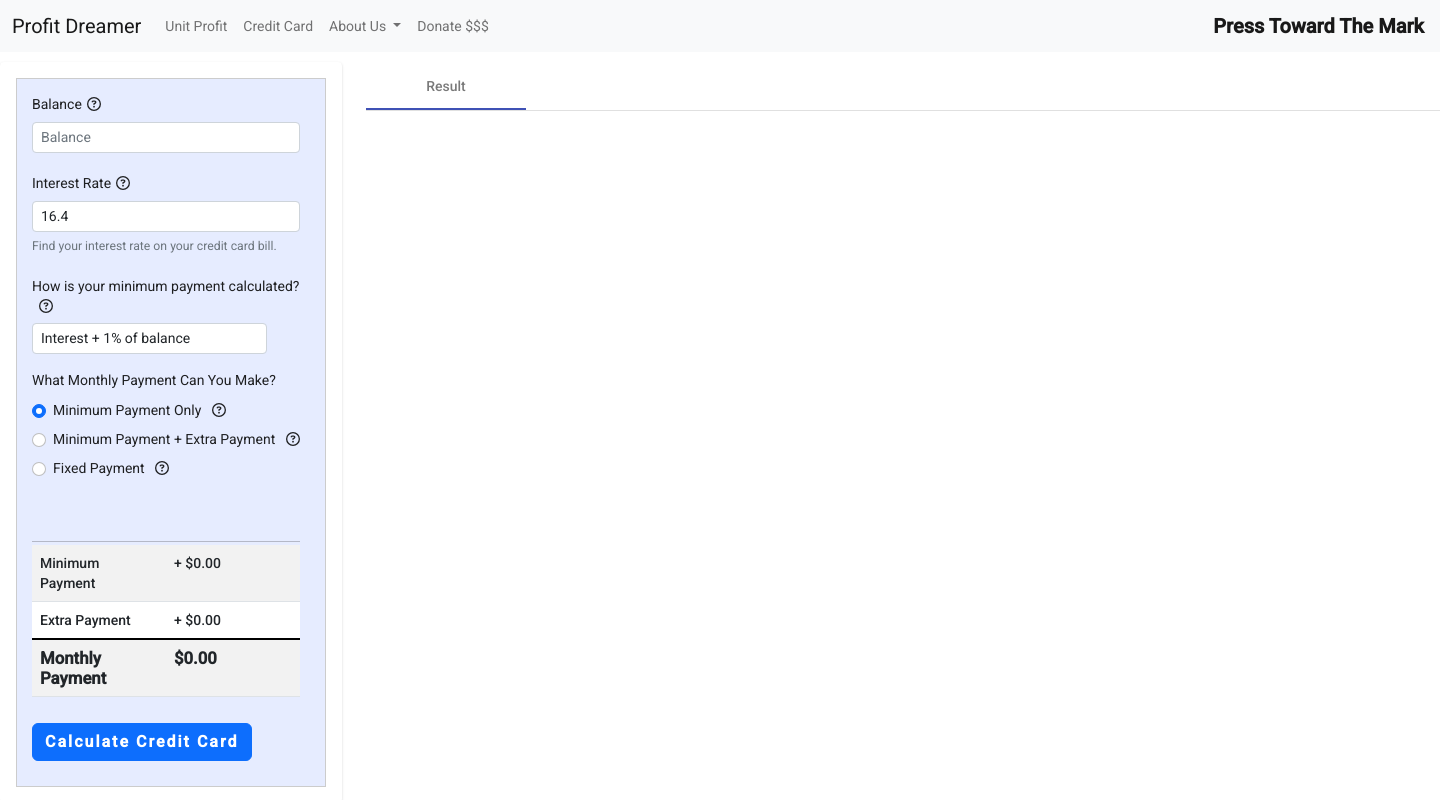
Test: credit-card-fixed-payment-validation.cy.ts › 10,000 15% payment fixed › focus on fixed payment and blur off › required error message should be visibile and shown
The width and height of the screenshot is (1440, 800).
Type "10000" into the field with id "balance" at point(166, 138), box [32,122,300,153]
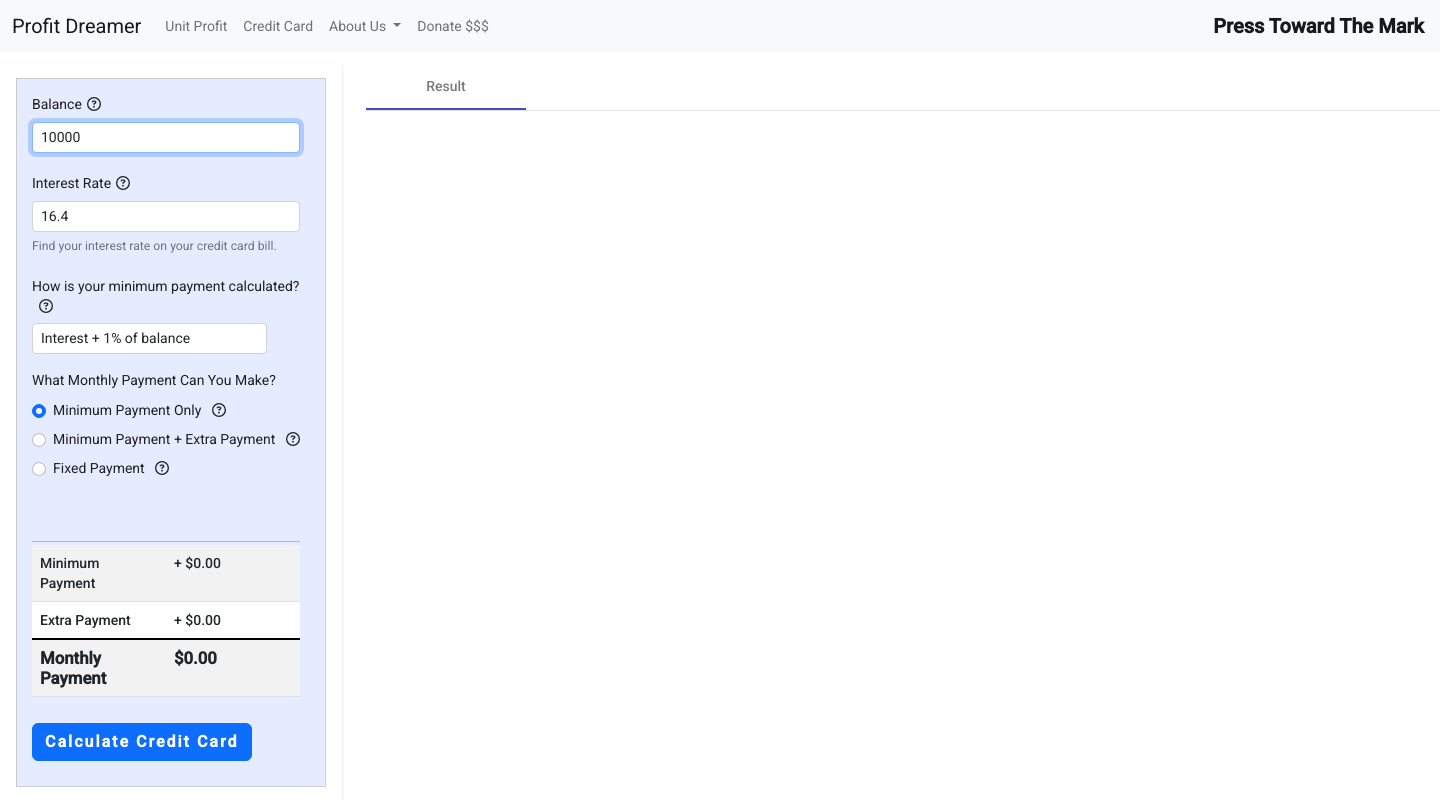
Replace the text in the field with id "interestRate" with "15" at point(166, 217), box [32,201,300,232]
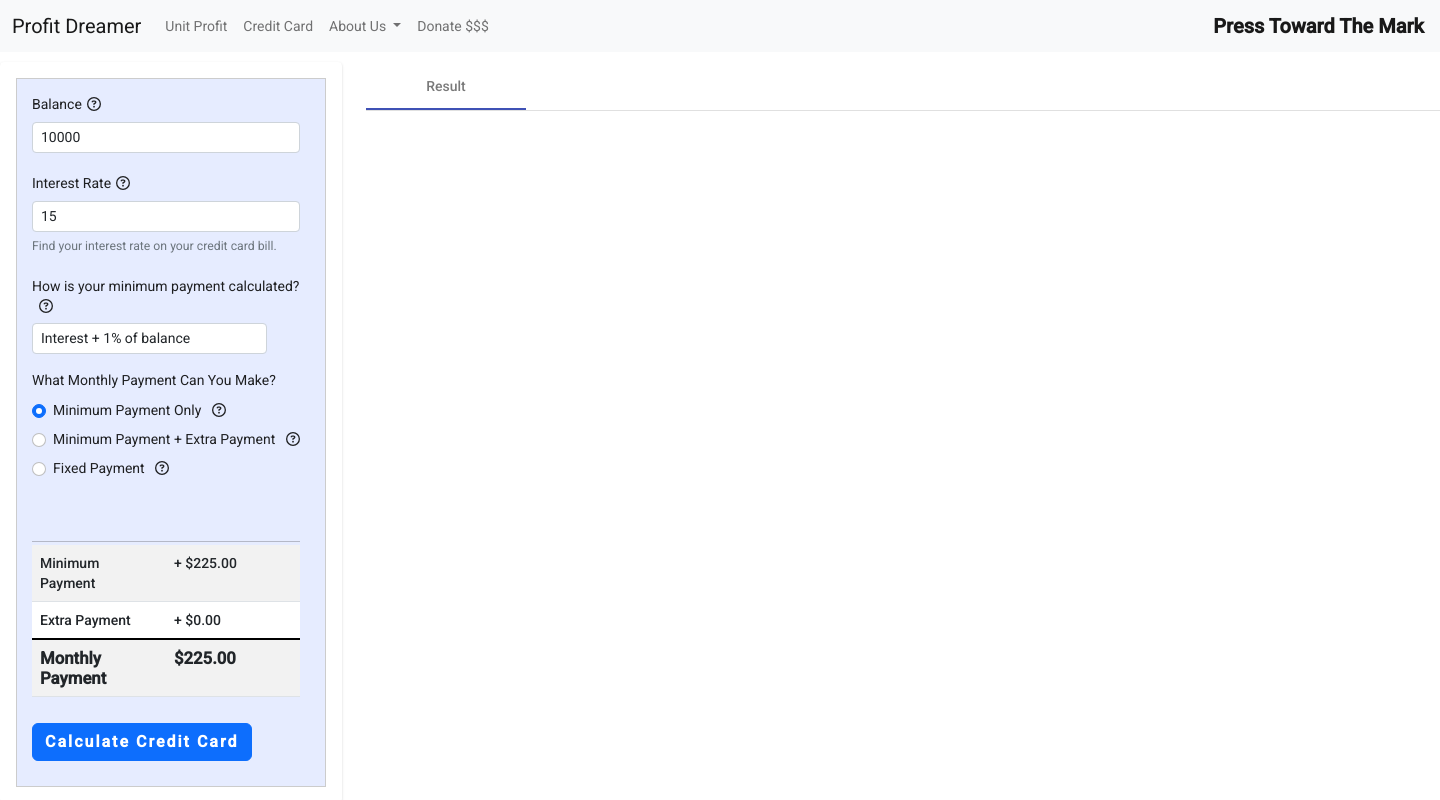
Click the radio button next to "Fixed Payment" at point(39, 469), box [32,462,46,476]
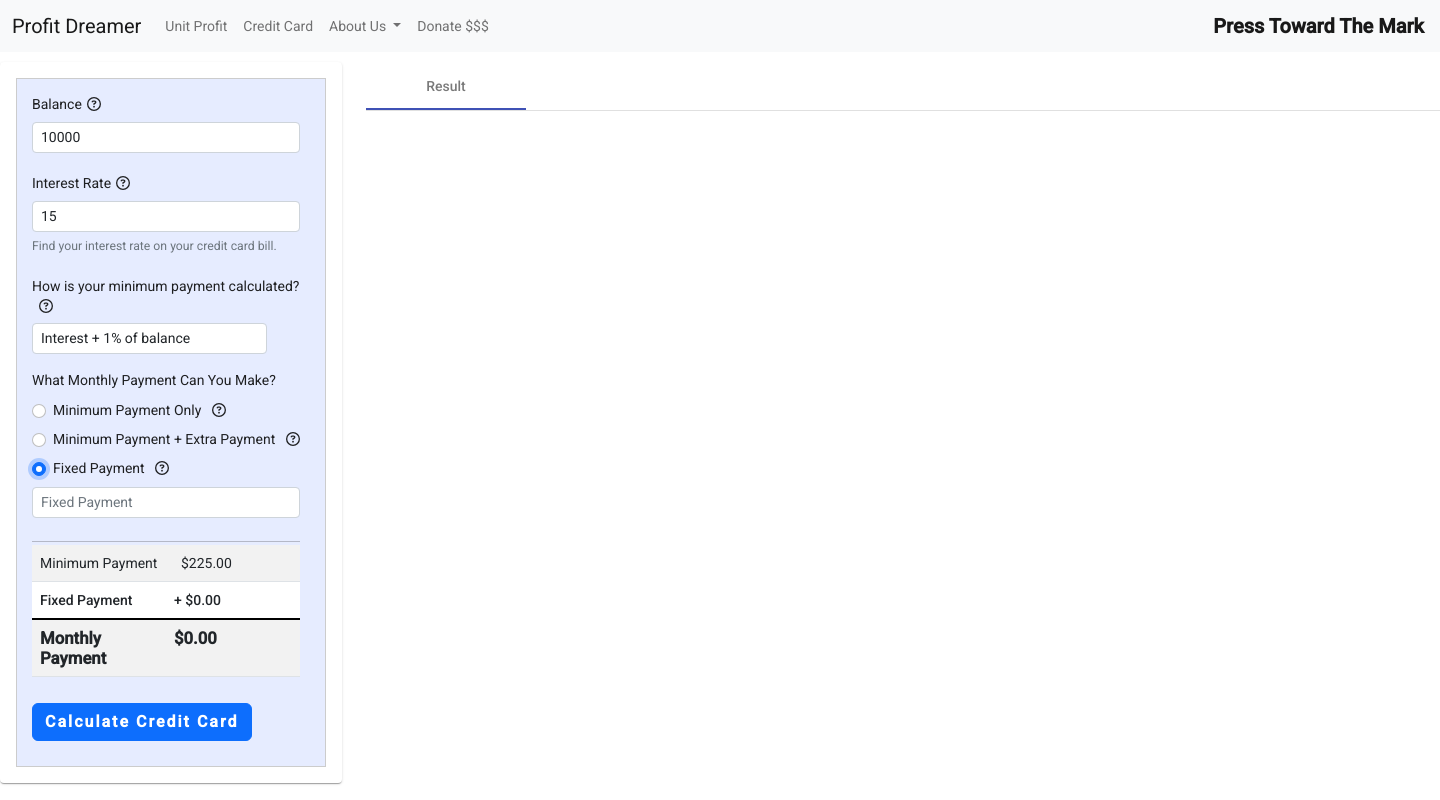
Focus the field with id "fixed-payment" at point(166, 503), box [32,487,300,518]
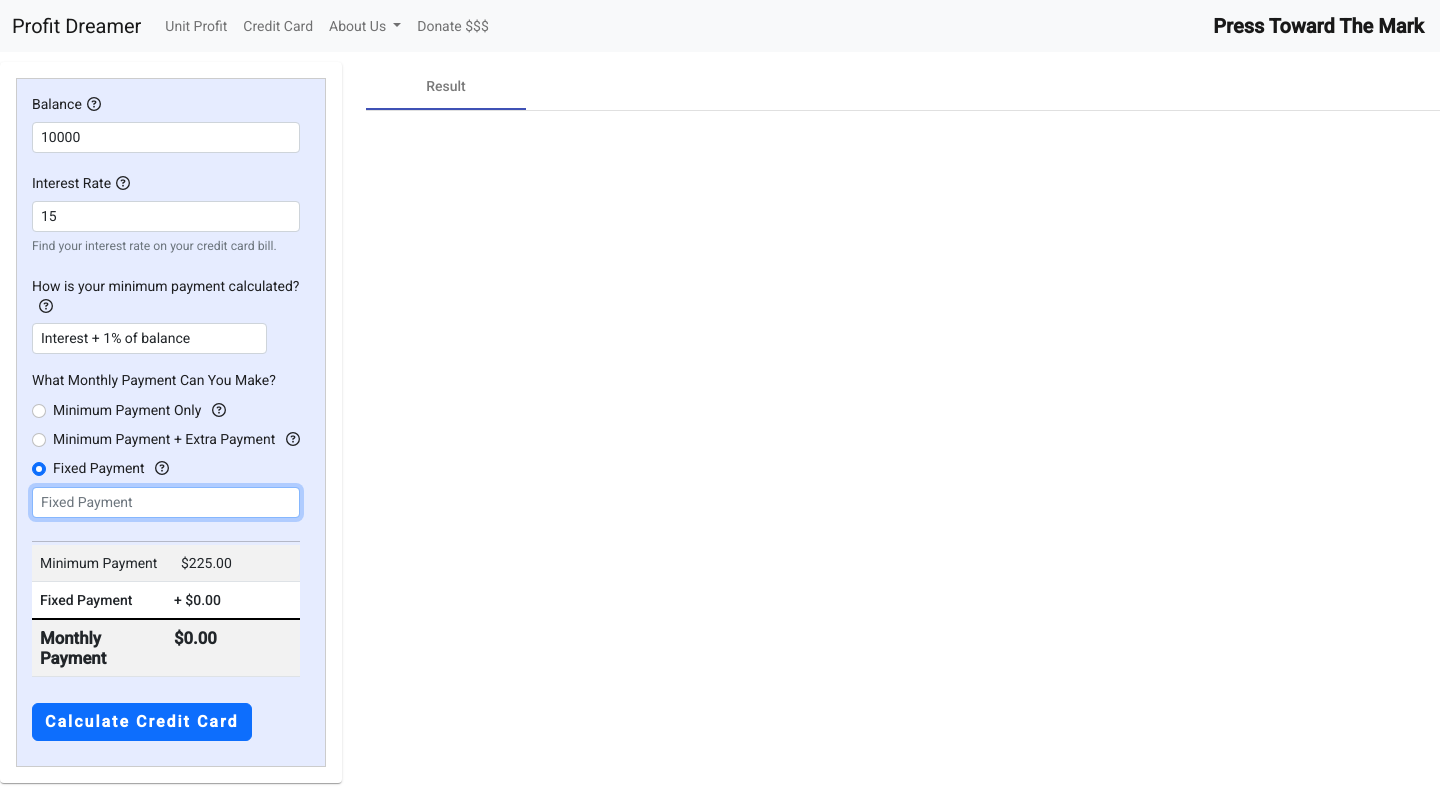
Leave the field with id "fixed-payment", box [32,487,300,518]
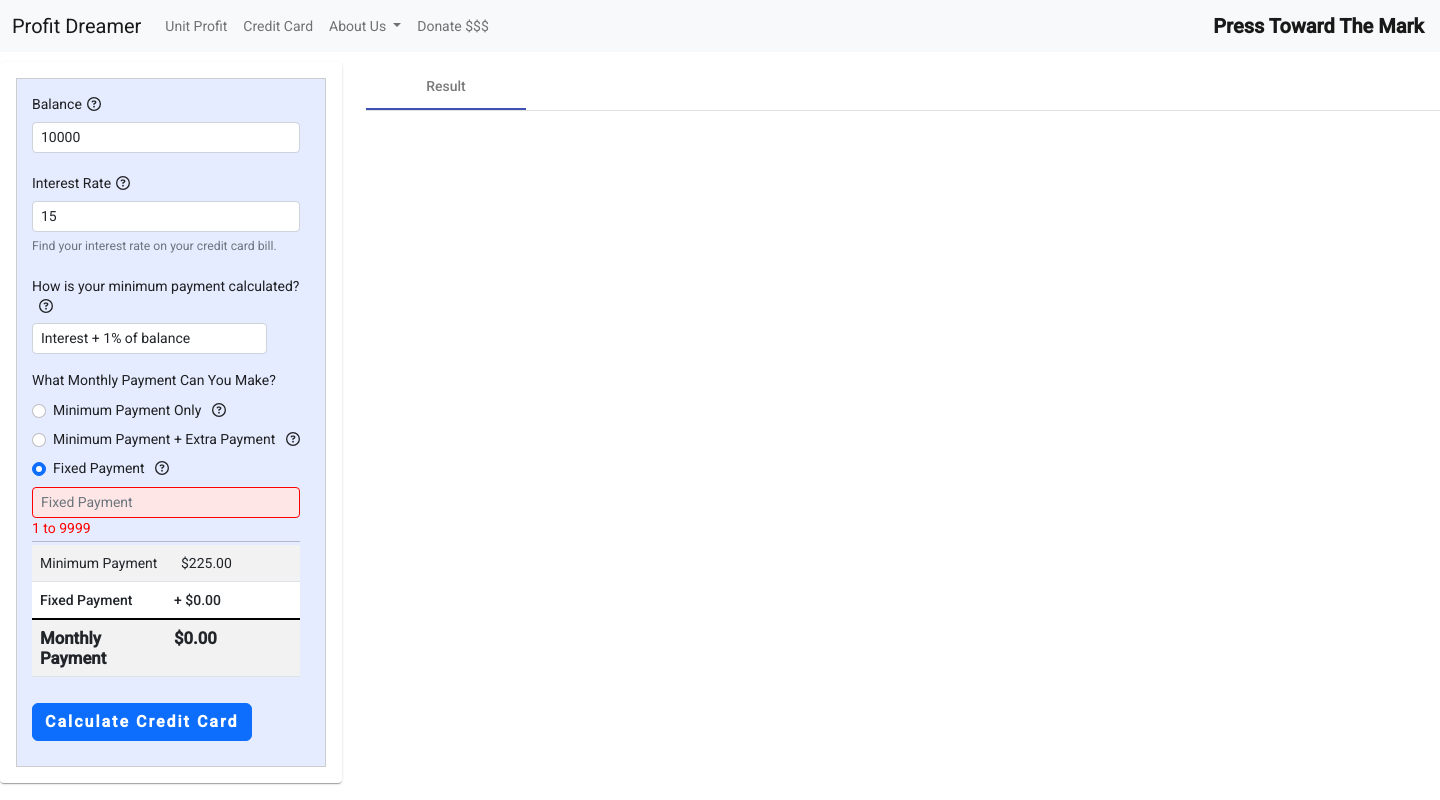
Expected: the text with id "fixed-payment-error" reads "1 to 9999", [32,520,91,536]
